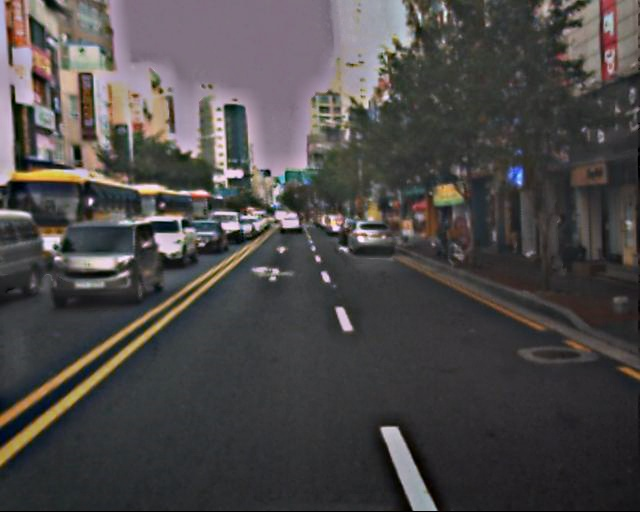person: (549, 211, 577, 277), (503, 208, 525, 259)
